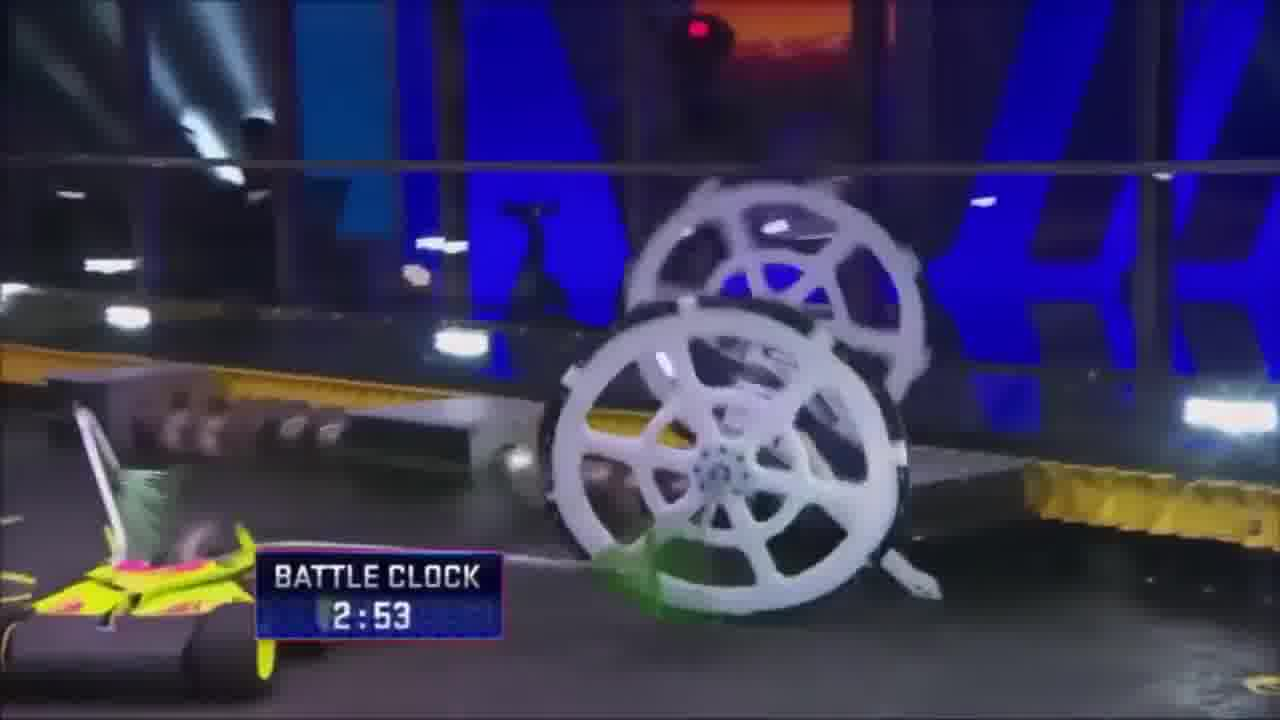combatbot: (537, 169, 945, 616), (0, 523, 326, 699)
